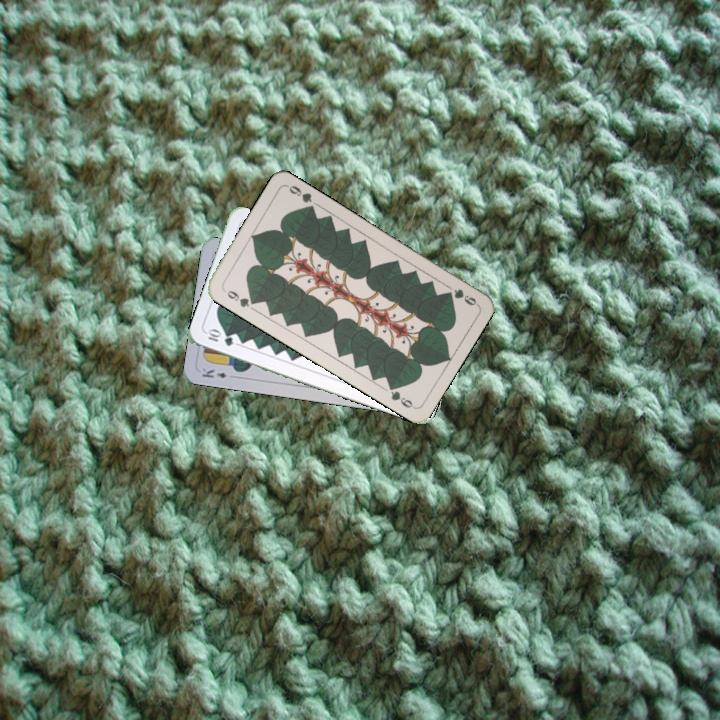EK: (198, 364, 230, 380)
G10: (203, 326, 236, 349)
G9: (442, 285, 480, 308), (223, 286, 259, 310)
